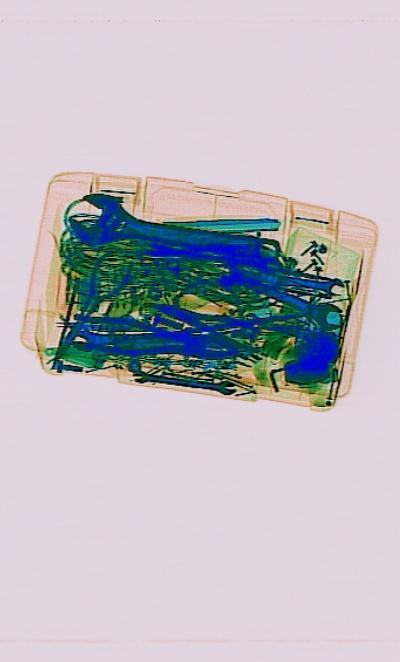Pliers: (43, 232, 135, 374)
Wrench: (65, 187, 282, 277), (251, 268, 343, 335), (131, 366, 236, 396), (70, 327, 166, 353), (277, 266, 344, 300)
